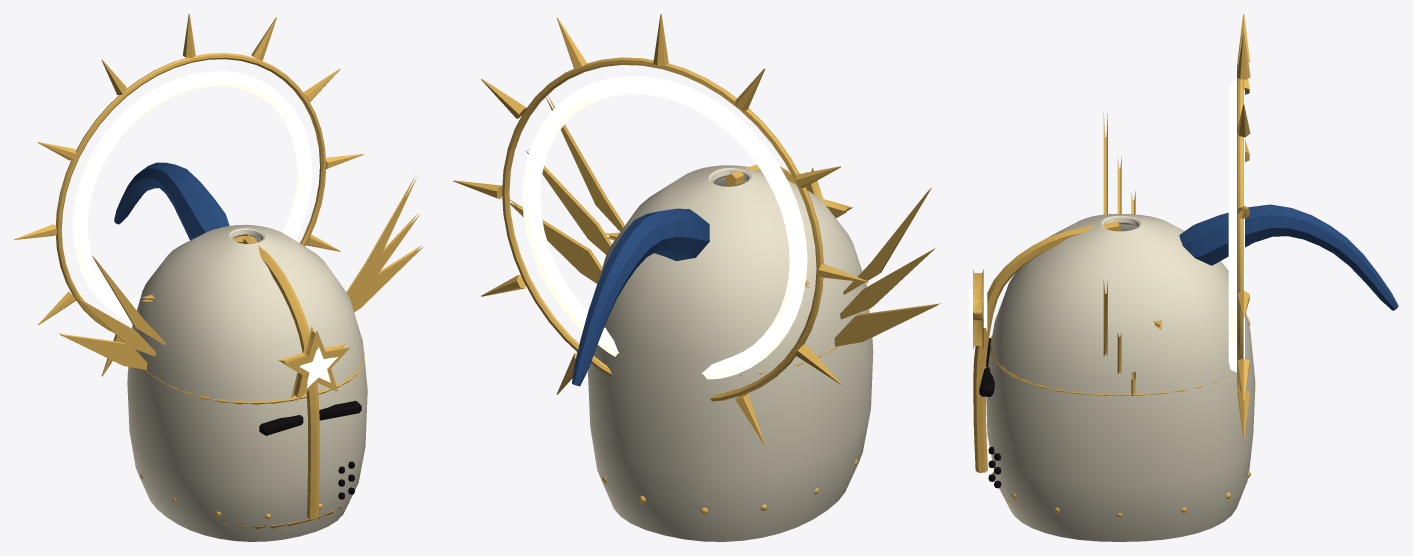
The model's file is asc_archon_crusader_helm.glb.
3 views of the same model, side by side, from view 1: azimuth 30°, elevation 25°; view 2: azimuth 150°, elevation 25°; view 3: azimuth 270°, elevation 25° (orthographic). The views are drawn at different scales.
Parts seen in each view (by area): view 1: asc_archon_crusader_helm; view 2: asc_archon_crusader_helm; view 3: asc_archon_crusader_helm.
Part boxes in pixels (box(x1,y1,x2,y2)): asc_archon_crusader_helm: box(14, 14, 423, 541); asc_archon_crusader_helm: box(453, 14, 940, 541); asc_archon_crusader_helm: box(969, 14, 1398, 541).
Size of the model in its own units: 0.6472 by 0.7489 by 0.6231.
